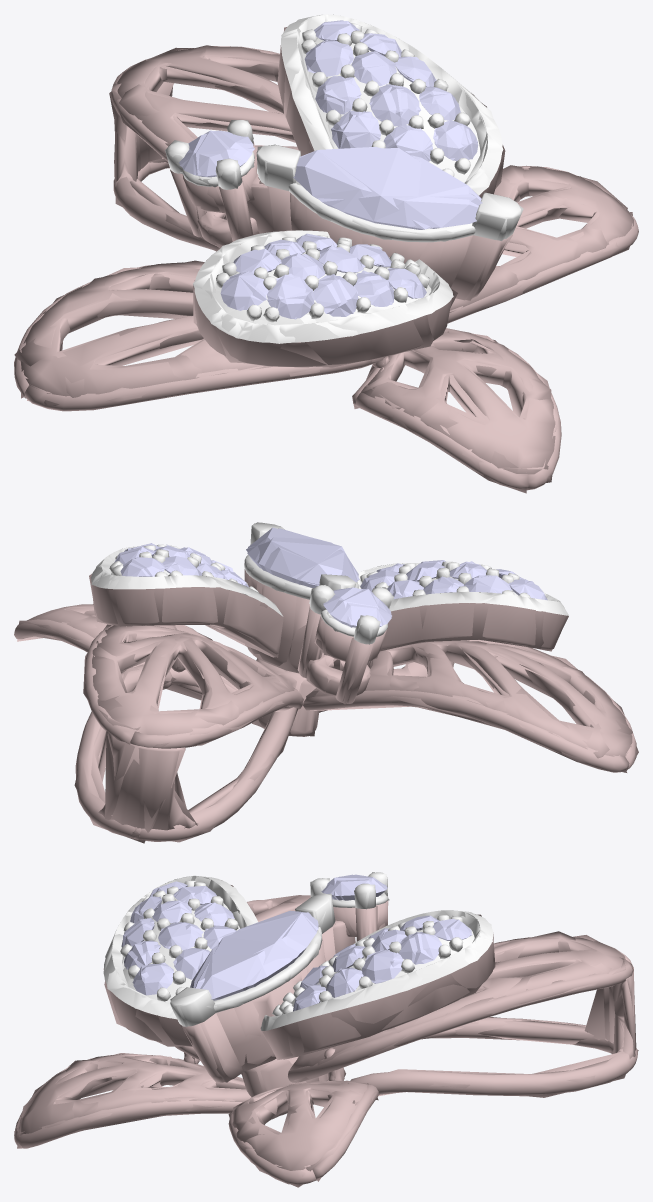
File: DCP-D000683134.glb
The picture shows the model from 3 angles, top to bottom: view 1: azimuth 30°, elevation 25°; view 2: azimuth 150°, elevation 25°; view 3: azimuth 270°, elevation 25°; orthographic projection. The views are drawn at different scales.
Parts seen in each view (by area): view 1: highPolyMesh, lowPolyMesh; view 2: highPolyMesh, lowPolyMesh; view 3: highPolyMesh, lowPolyMesh.
Part boxes in pixels (x1,y1,x2,y2): highPolyMesh: (14, 14, 638, 490); lowPolyMesh: (14, 14, 632, 493); highPolyMesh: (14, 522, 636, 841); lowPolyMesh: (17, 522, 638, 843); highPolyMesh: (14, 872, 637, 1185); lowPolyMesh: (17, 872, 638, 1187).
Bounding box in the file's own units: 0.0207 × 0.00866 × 0.0202.
